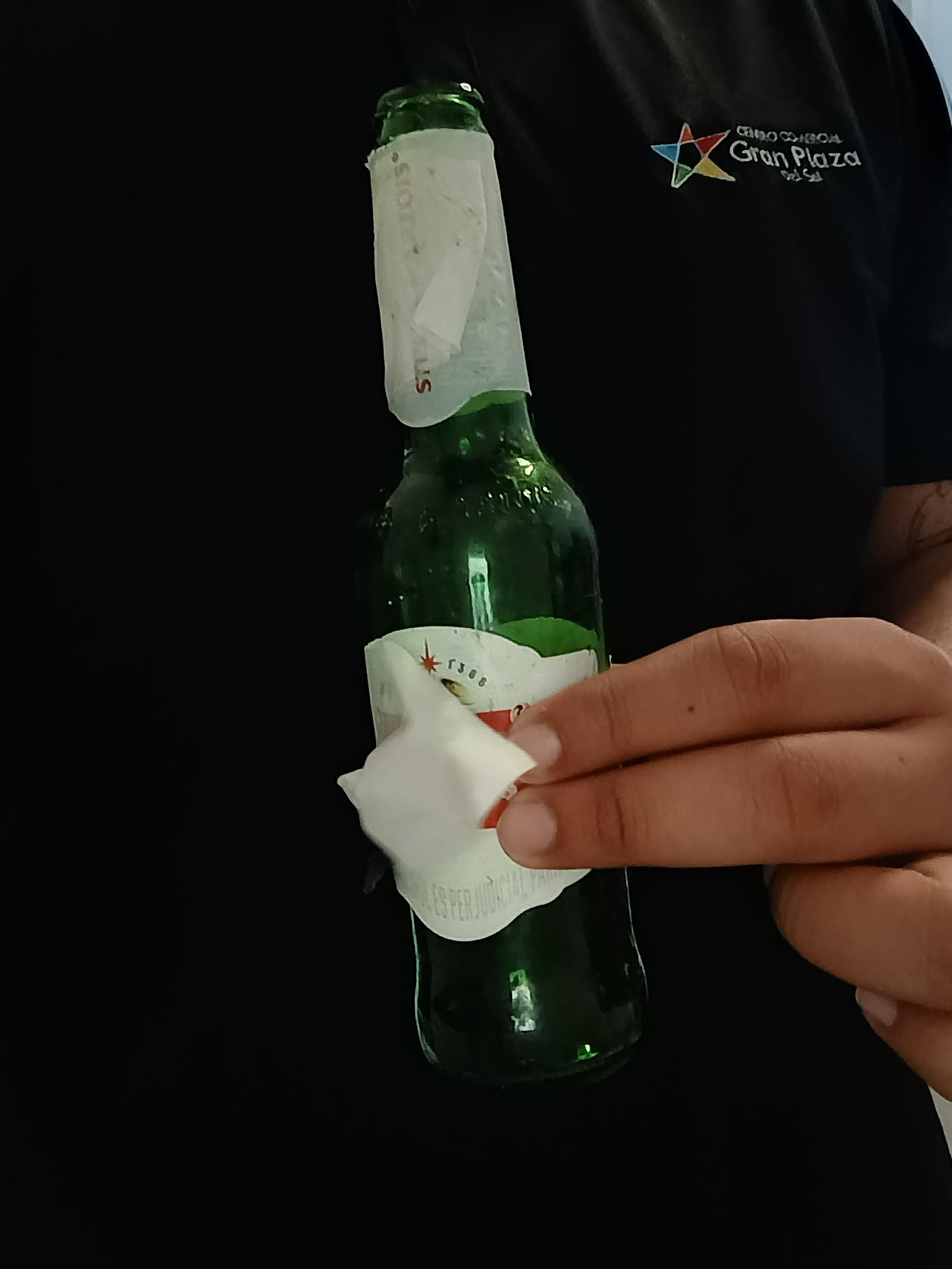Vidrio: (361, 81, 650, 1085)
